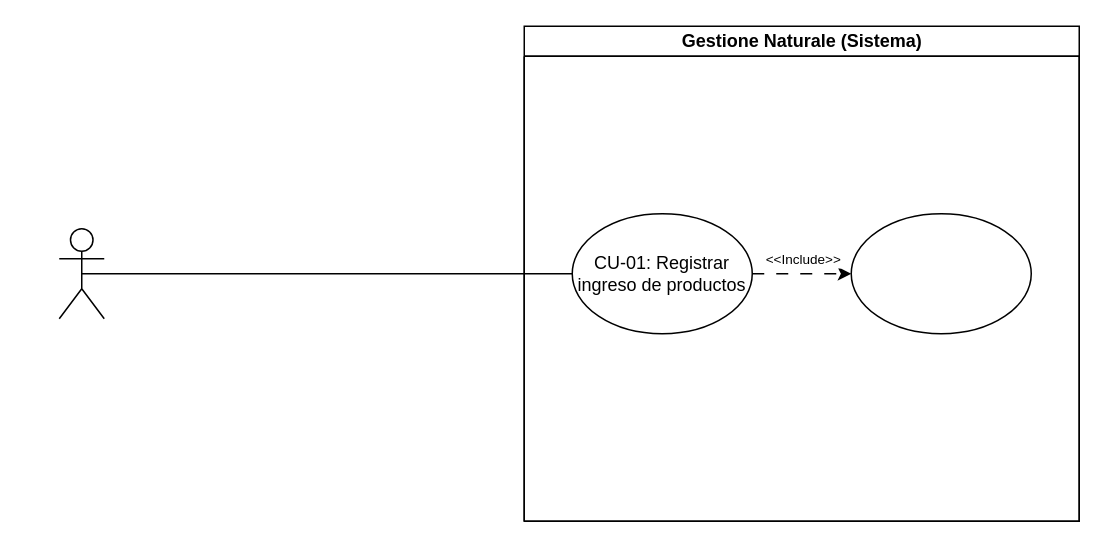
Image size: 1106x548. Some labels were removed from this diagram. The shapes that lost their labels are listed below. From the top down, each one's centre as x and y in pixels, then its label:
[81,273]: Administrador
[940,273]: CU-04: Registrar lotes de productos
